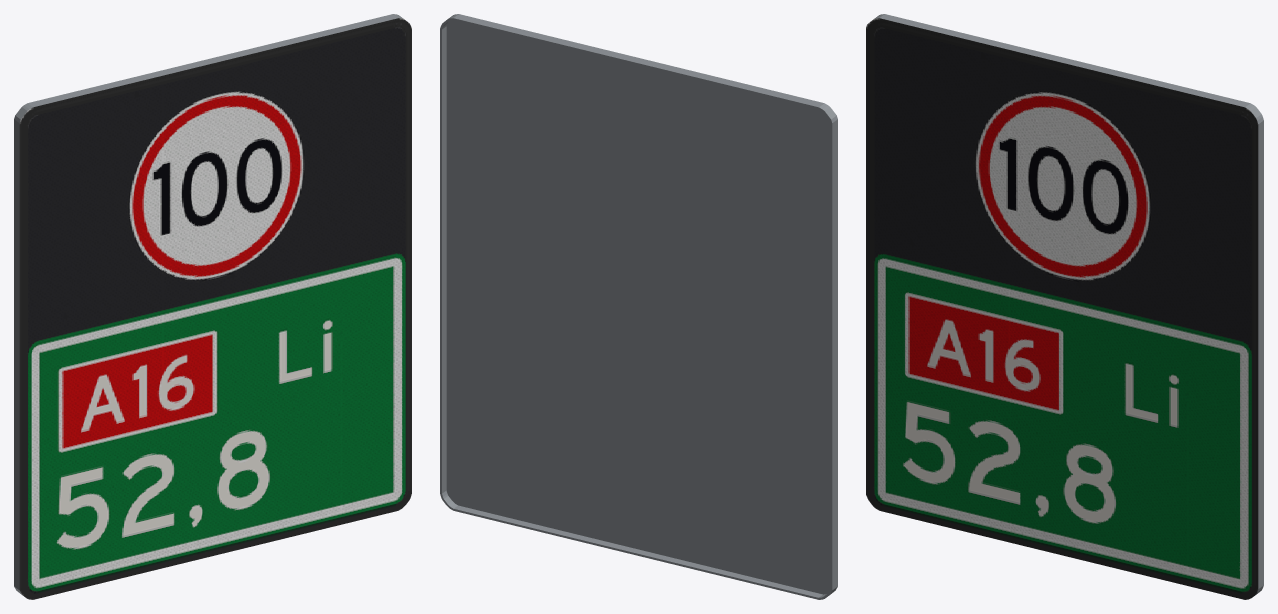
3 renders of one model, left to right at view 1: azimuth 30°, elevation 25°; view 2: azimuth 150°, elevation 25°; view 3: azimuth 330°, elevation 25°, orthographic.
Visible parts, largest first — view 1: cat_a7f773ff8aa1a422; view 2: cat_a7f773ff8aa1a422; view 3: cat_a7f773ff8aa1a422.
Part boxes in pixels (<box>): cat_a7f773ff8aa1a422: <box>14,14,411,599</box>; cat_a7f773ff8aa1a422: <box>440,14,837,599</box>; cat_a7f773ff8aa1a422: <box>866,14,1263,599</box>.
Bounding box in the file's own units: 0.6 × 0.015 × 0.72.
2 materials, 1 textured.
